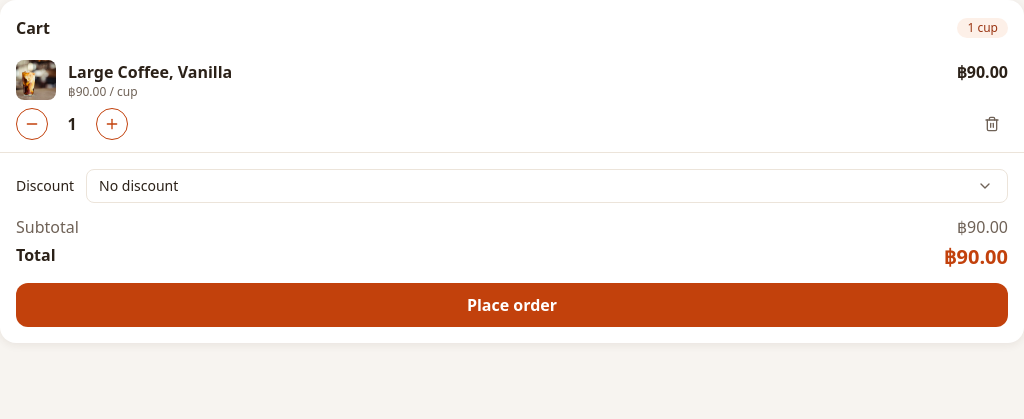
Test: CartPanel › changes quantity and shows translated API detail errors
The width and height of the screenshot is (1024, 419).
Step 1. Click the button named "Increase Large Coffee, Vanilla" → point(112, 124), box [96,108,128,140]
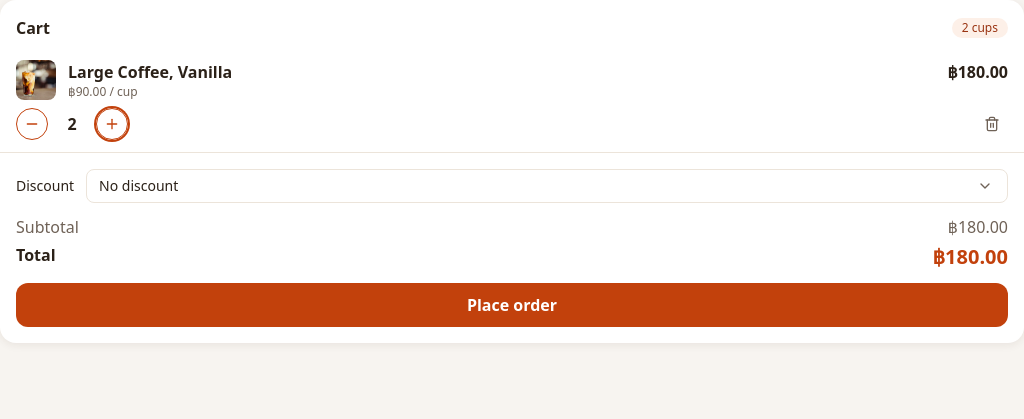
Expected: the text named "Large Coffee, Vanilla quantity" reads "2", [67,113,77,135]
Step 2. Click the button "Place order" → point(512, 305), box [16,283,1008,327]
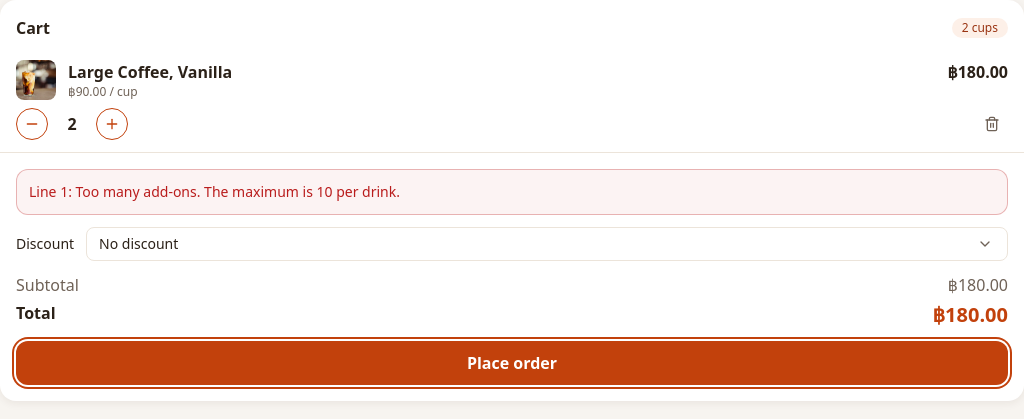
Expected: the button "Place order" is enabled, [16,341,1008,385]
Expected: the list item "Line 1: Too many add-ons. The maximum is 10 per drink." is shown, [29,182,400,201]
